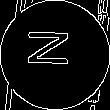N_E: (29, 34, 81, 76)
